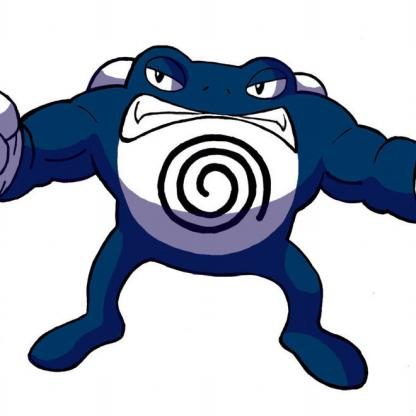Poliwrath: (1, 40, 416, 390)
